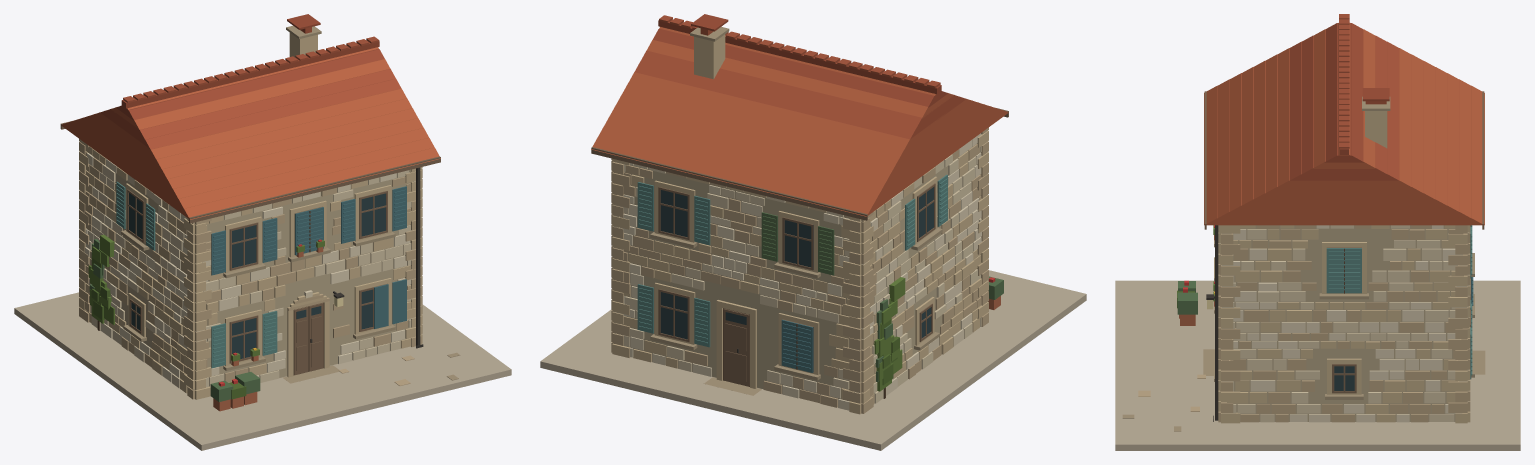
File: tas-ev.glb
3 renders of one model, left to right at view 1: azimuth 30°, elevation 25°; view 2: azimuth 150°, elevation 25°; view 3: azimuth 270°, elevation 25°, orthographic. The views are drawn at different scales.
Visible parts, largest first — view 1: kiremit1, zemin, tas2, tas3, harc, kiremit2, tas1, tas4, ahsap, kiremit4, kepenk, cam (+7 smaller); view 2: kiremit1, zemin, tas2, tas3, harc, kiremit2, tas1, tas4, ahsap, kiremit4, cam, kepenk2 (+5 smaller); view 3: kiremit1, zemin, tas2, tas3, harc, tas1, kiremit2, tas4, kiremit4, kepenk2, tas_koyu, ahsap (+3 smaller).
Boxes of the visible parts, x1,y1,x2,y2 form: kiremit1: (61, 47, 440, 219); zemin: (14, 292, 511, 450); tas2: (79, 33, 422, 399); tas3: (79, 139, 422, 399); harc: (87, 170, 410, 389); kiremit2: (100, 27, 400, 149); tas1: (80, 164, 420, 389); tas4: (80, 153, 412, 382); ahsap: (60, 121, 440, 375); kiremit4: (116, 14, 384, 120); kepenk: (211, 186, 406, 328); cam: (129, 193, 385, 358); kiremit1: (591, 27, 1008, 216); zemin: (540, 270, 1086, 450); tas2: (611, 34, 988, 414); tas3: (611, 127, 988, 413); harc: (624, 144, 979, 403); kiremit2: (634, 15, 966, 139); tas1: (613, 146, 984, 403); tas4: (613, 133, 984, 410); ahsap: (591, 108, 1008, 386); kiremit4: (653, 14, 947, 107); cam: (660, 187, 933, 371); kepenk2: (637, 174, 947, 347); kiremit1: (1204, 23, 1484, 225); zemin: (1115, 280, 1520, 450); tas2: (1218, 111, 1470, 423); tas3: (1138, 225, 1470, 422); harc: (1233, 225, 1455, 421); tas1: (1219, 225, 1469, 422); kiremit2: (1289, 14, 1399, 180); tas4: (1221, 225, 1469, 422); kiremit4: (1324, 23, 1389, 162); kepenk2: (1326, 225, 1472, 379); tas_koyu: (1122, 96, 1485, 431); ahsap: (1204, 91, 1484, 393).
Size of the model in its own units: 11 by 9.74 by 11.5.
